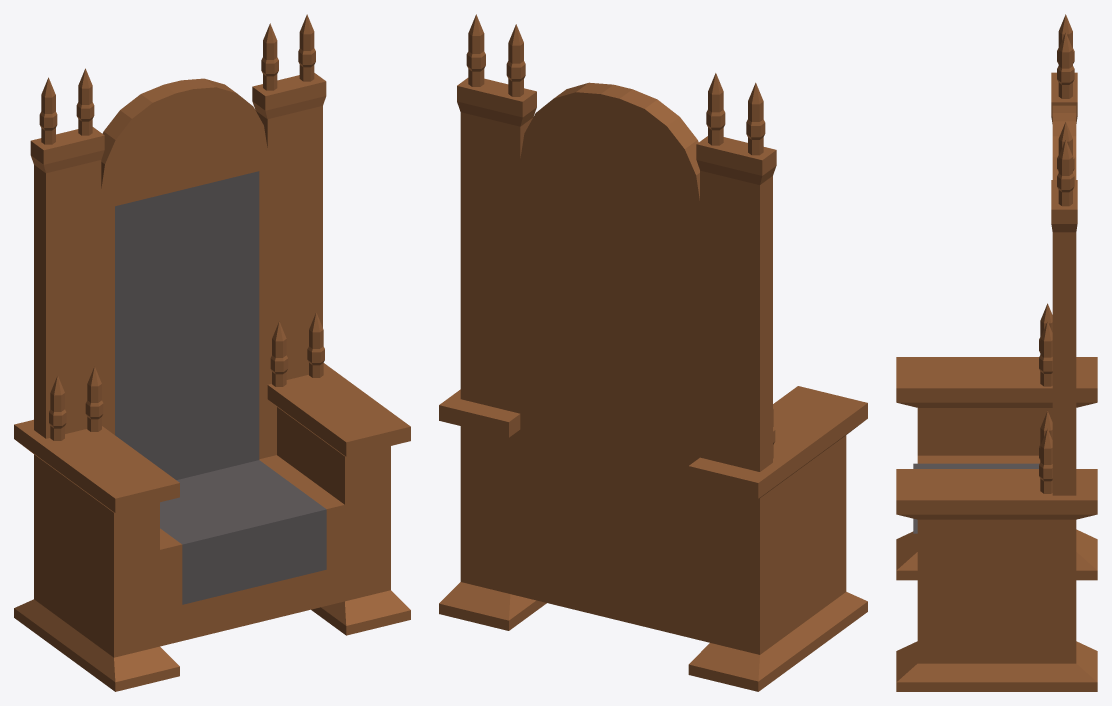
The model's file is THRONE.fbx.
3 views of the same model, side by side, from view 1: azimuth 30°, elevation 25°; view 2: azimuth 150°, elevation 25°; view 3: azimuth 270°, elevation 25° (orthographic). The views are drawn at different scales.
Parts seen in each view (by area): view 1: Plane.006, Plane.003; view 2: Plane.006; view 3: Plane.006, Plane.003.
Part boxes in pixels (x1=…): Plane.006: x1=14, y1=14, x2=410, y2=691; Plane.003: x1=115, y1=171, x2=326, y2=604; Plane.006: x1=439, y1=14, x2=867, y2=691; Plane.006: x1=896, y1=14, x2=1097, y2=691; Plane.003: x1=913, y1=463, x2=1039, y2=533.
Bounding box in the file's own units: 640 × 1134 × 380.
